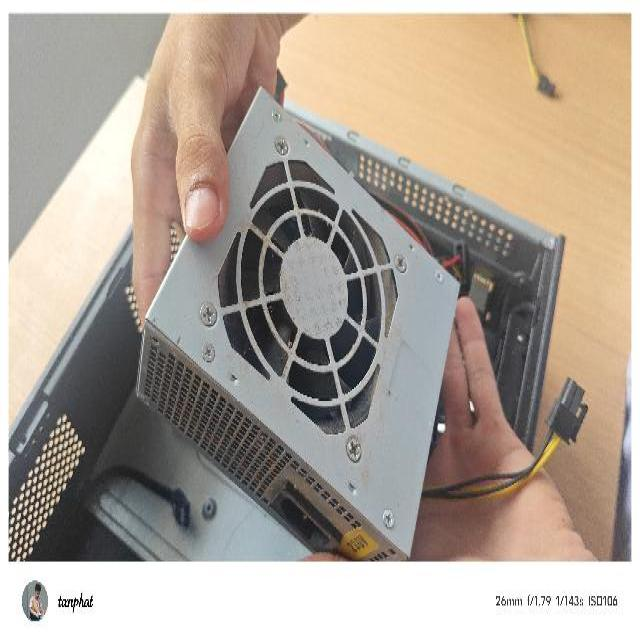PSU: (137, 83, 462, 560)
